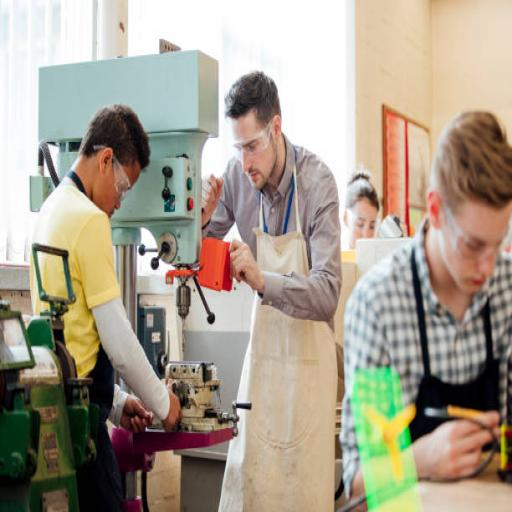No Gloves: (404, 374, 512, 491), (186, 164, 272, 306), (114, 349, 184, 453)
No Helmet: (418, 94, 512, 308), (74, 81, 153, 236), (214, 57, 295, 197), (336, 158, 392, 276)
jacket: (217, 144, 355, 512), (34, 154, 142, 512), (400, 234, 510, 508)
safety glasses: (423, 182, 512, 272), (81, 130, 141, 210), (219, 108, 286, 164), (340, 191, 392, 243)
